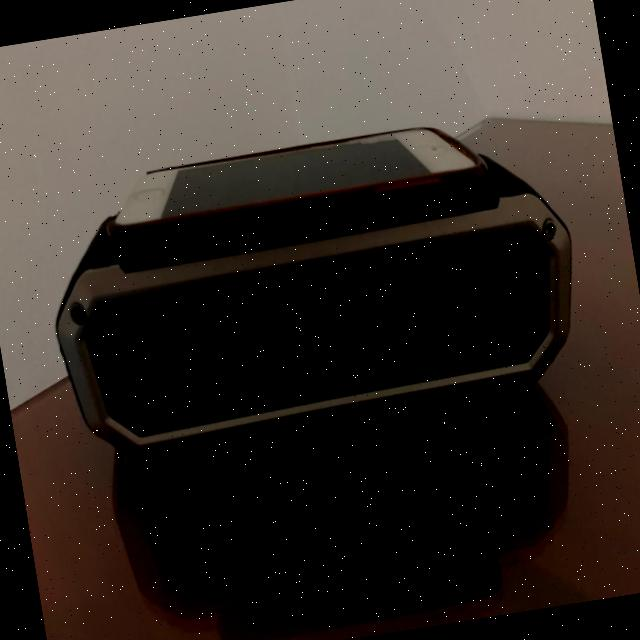Phone: (100, 113, 493, 255)
